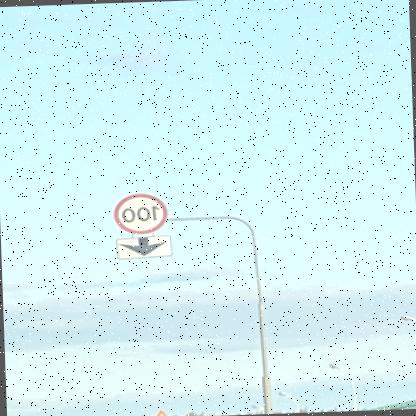speedlimit: (114, 191, 171, 234)
